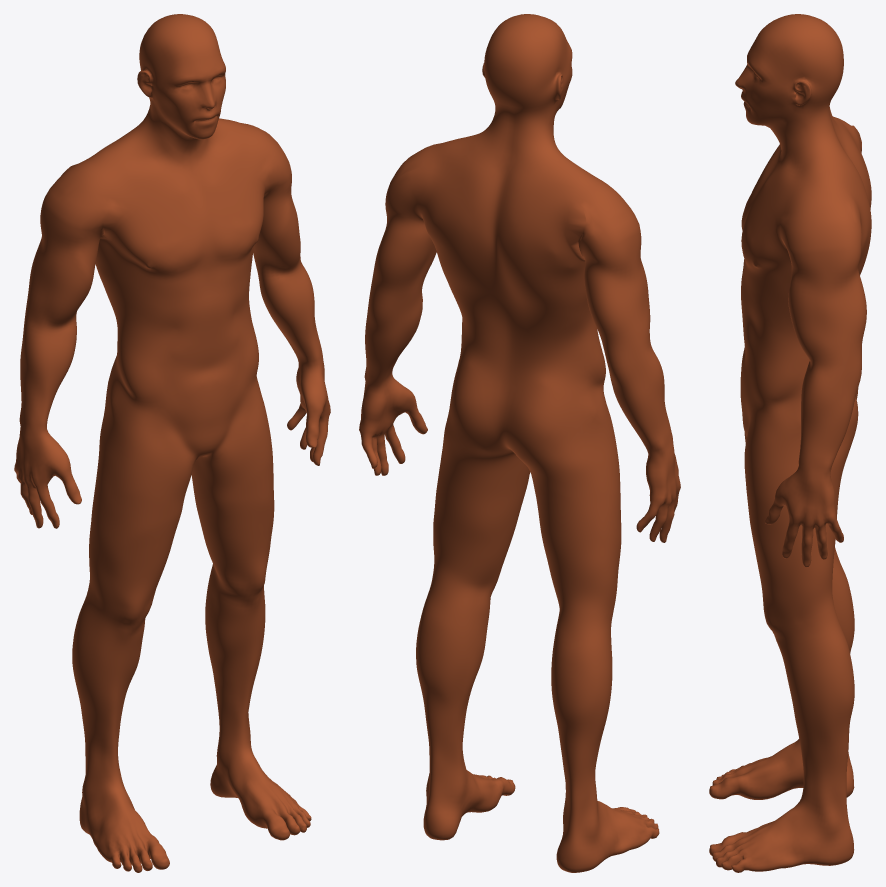
Rendered from body2.obj.
The picture shows the model from 3 angles, left to right: view 1: azimuth 30°, elevation 25°; view 2: azimuth 150°, elevation 25°; view 3: azimuth 270°, elevation 25°; orthographic projection.
Visible parts, largest first — view 1: Group1; view 2: Group1; view 3: Group1.
Part boxes in pixels (x1,y1,x2,y2): Group1: [14, 14, 330, 872]; Group1: [359, 14, 680, 872]; Group1: [709, 14, 871, 872].
Bounding box in the file's own units: 8.16 × 20.74 × 3.77.
